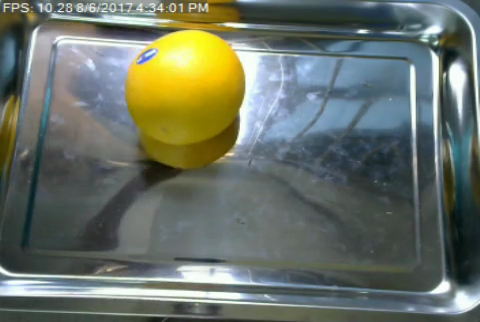Orange: (124, 29, 245, 144)
